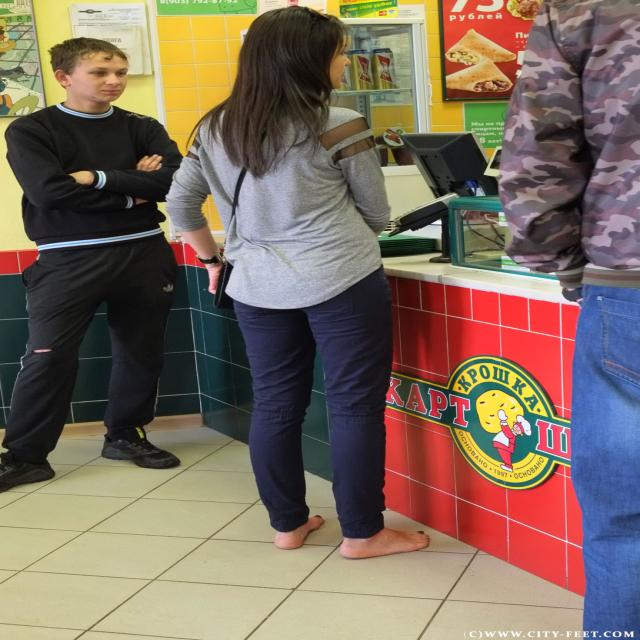Barefoots: (340, 527, 430, 559), (274, 515, 325, 549)
